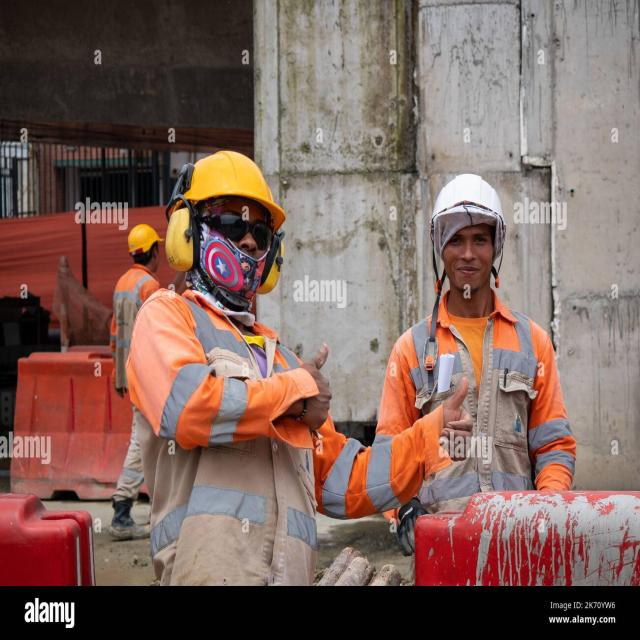goggles: (193, 204, 287, 259)
helmet: (170, 142, 286, 234), (429, 172, 508, 233), (125, 222, 163, 253)
no-goggles: (439, 223, 496, 262)
vest: (129, 292, 323, 584), (392, 314, 574, 472), (106, 269, 152, 387)
